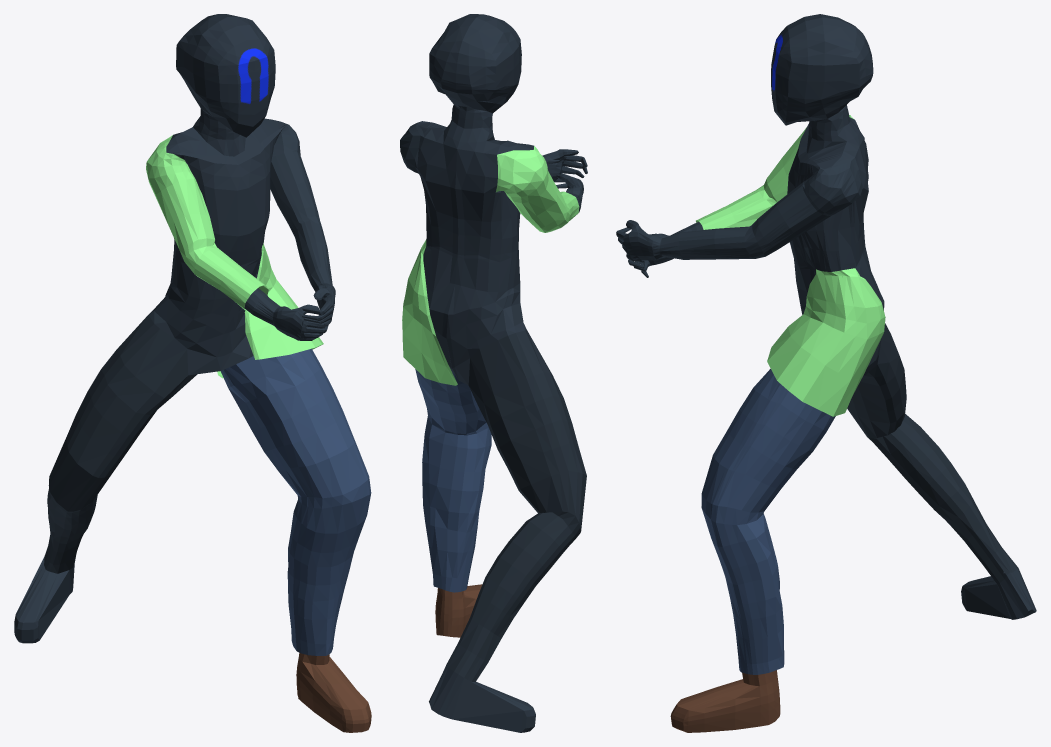
File: Mar_WR_000009.obj
3 views of the same model, side by side, from view 1: azimuth 30°, elevation 25°; view 2: azimuth 150°, elevation 25°; view 3: azimuth 270°, elevation 25° (orthographic). The views are drawn at different scales.
Visible parts, largest first — view 1: Cube.000_Cube.001; view 2: Cube.000_Cube.001; view 3: Cube.000_Cube.001.
Part boxes in pixels (box(x1,y1,x2,y2)): Cube.000_Cube.001: box(14, 14, 371, 732); Cube.000_Cube.001: box(400, 14, 587, 732); Cube.000_Cube.001: box(616, 14, 1036, 732).
Size of the model in its own units: 1.35 by 3.73 by 2.09.
